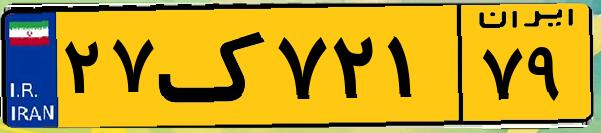1: (385, 28, 445, 110)
2: (330, 28, 385, 110), (57, 26, 110, 100)
7: (270, 28, 330, 110), (475, 38, 525, 113), (110, 28, 158, 98)
9: (525, 38, 570, 115)
ک: (158, 12, 270, 120)
